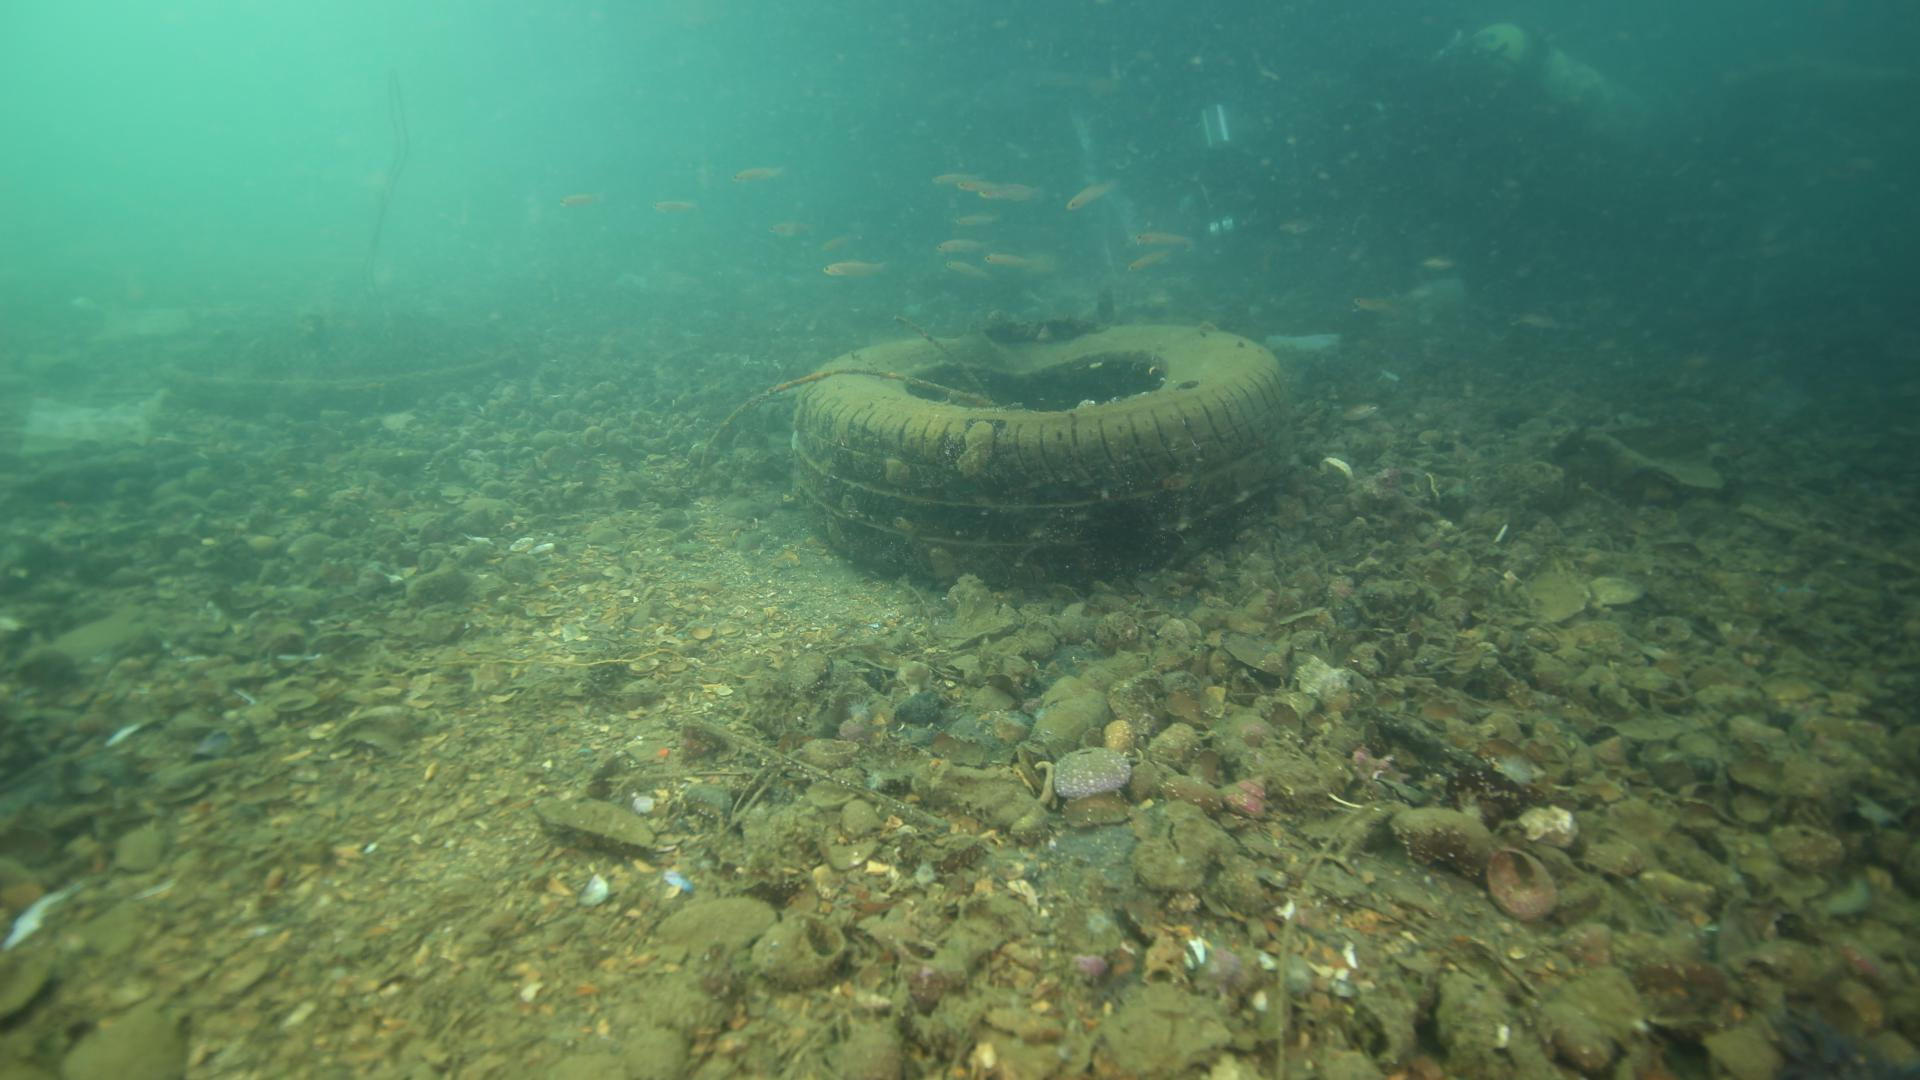tire: (793, 320, 1287, 585)
